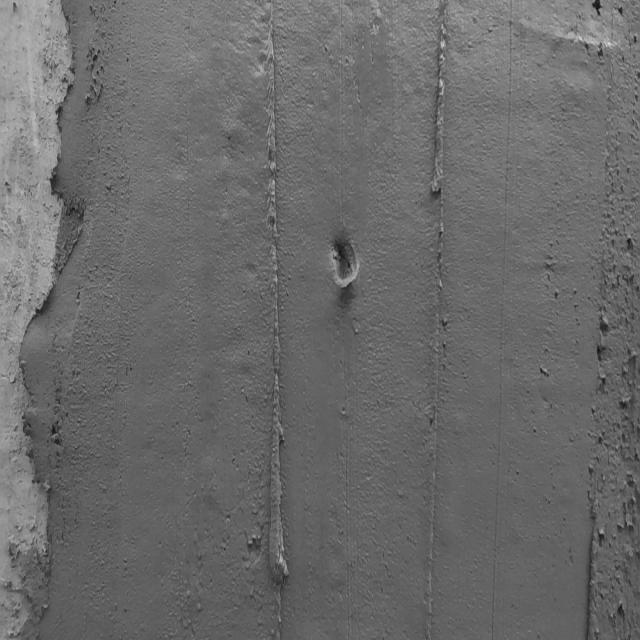trowels marks: (260, 3, 294, 627), (422, 5, 454, 633), (586, 497, 604, 640)
